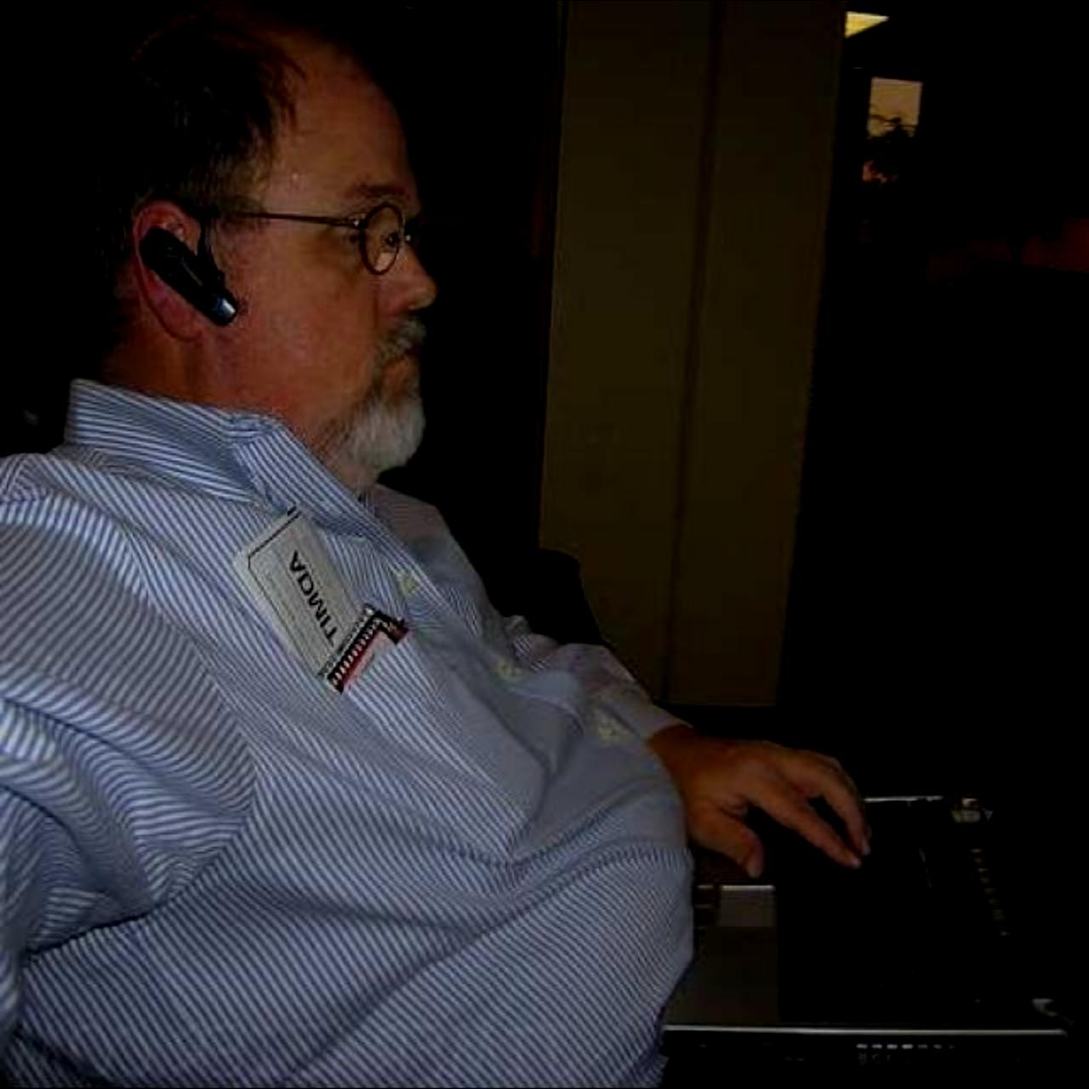laptop: (649, 653, 1086, 1062)
